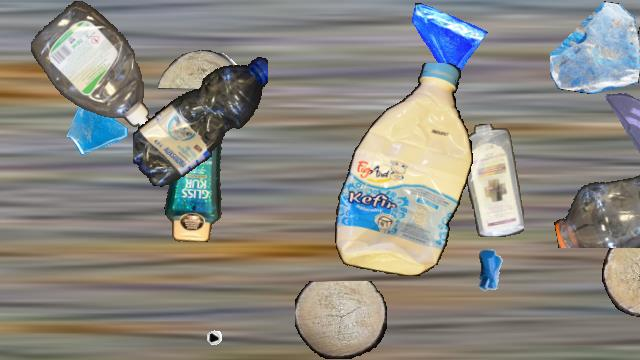glass: (550, 1, 640, 93), (406, 1, 488, 83), (65, 94, 131, 160), (601, 89, 640, 173)
metal: (460, 241, 522, 303), (169, 290, 229, 350)
plastic: (331, 63, 473, 275), (133, 50, 267, 190), (31, 1, 151, 131), (549, 108, 640, 248), (160, 99, 232, 241), (463, 124, 523, 236), (636, 1, 640, 133)
wood: (295, 281, 387, 359), (602, 232, 640, 318), (158, 50, 242, 88)
